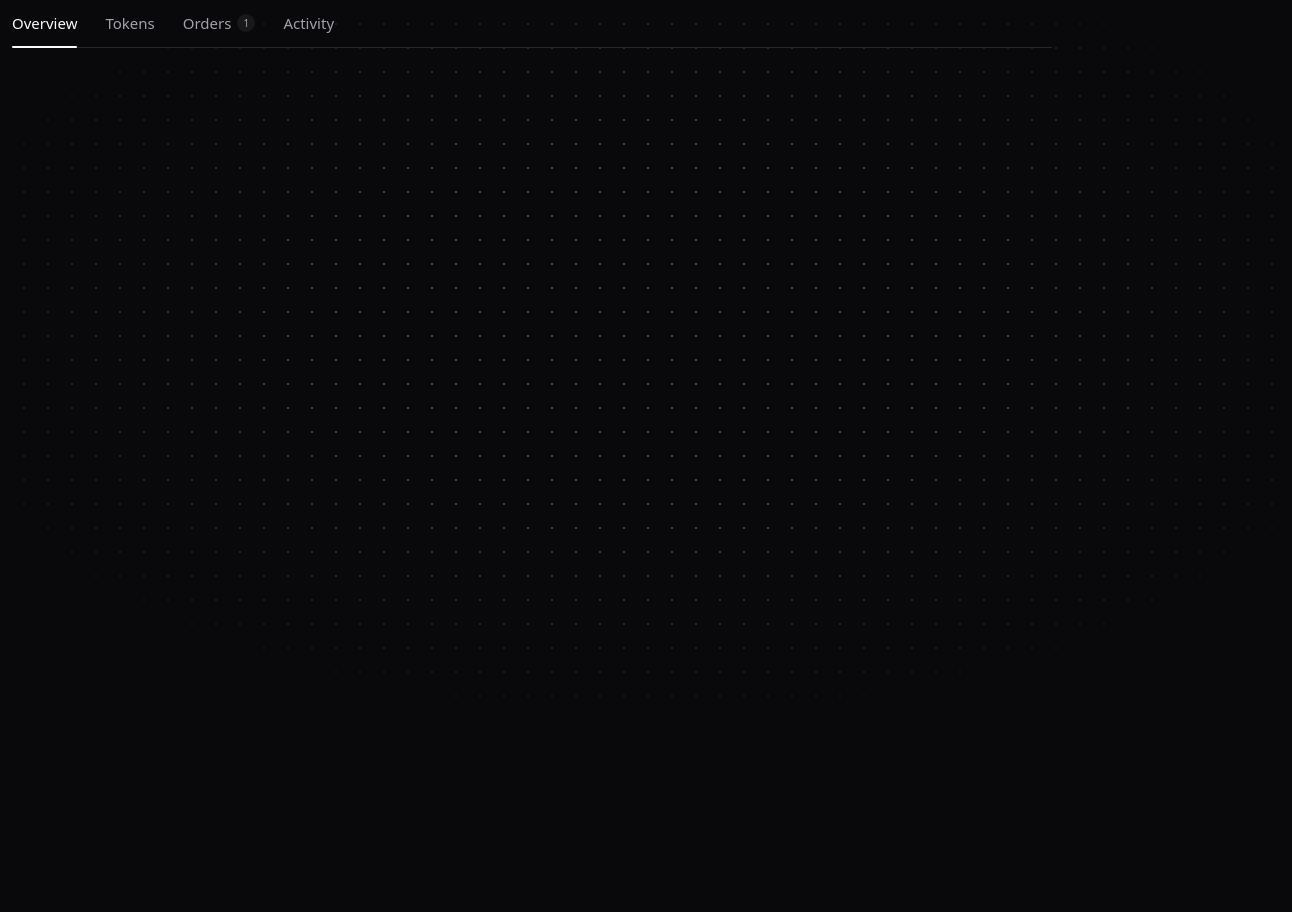
shows a resting order submission in activity
Click the tab "Activity" at point(309, 29), box [283,12,334,46]
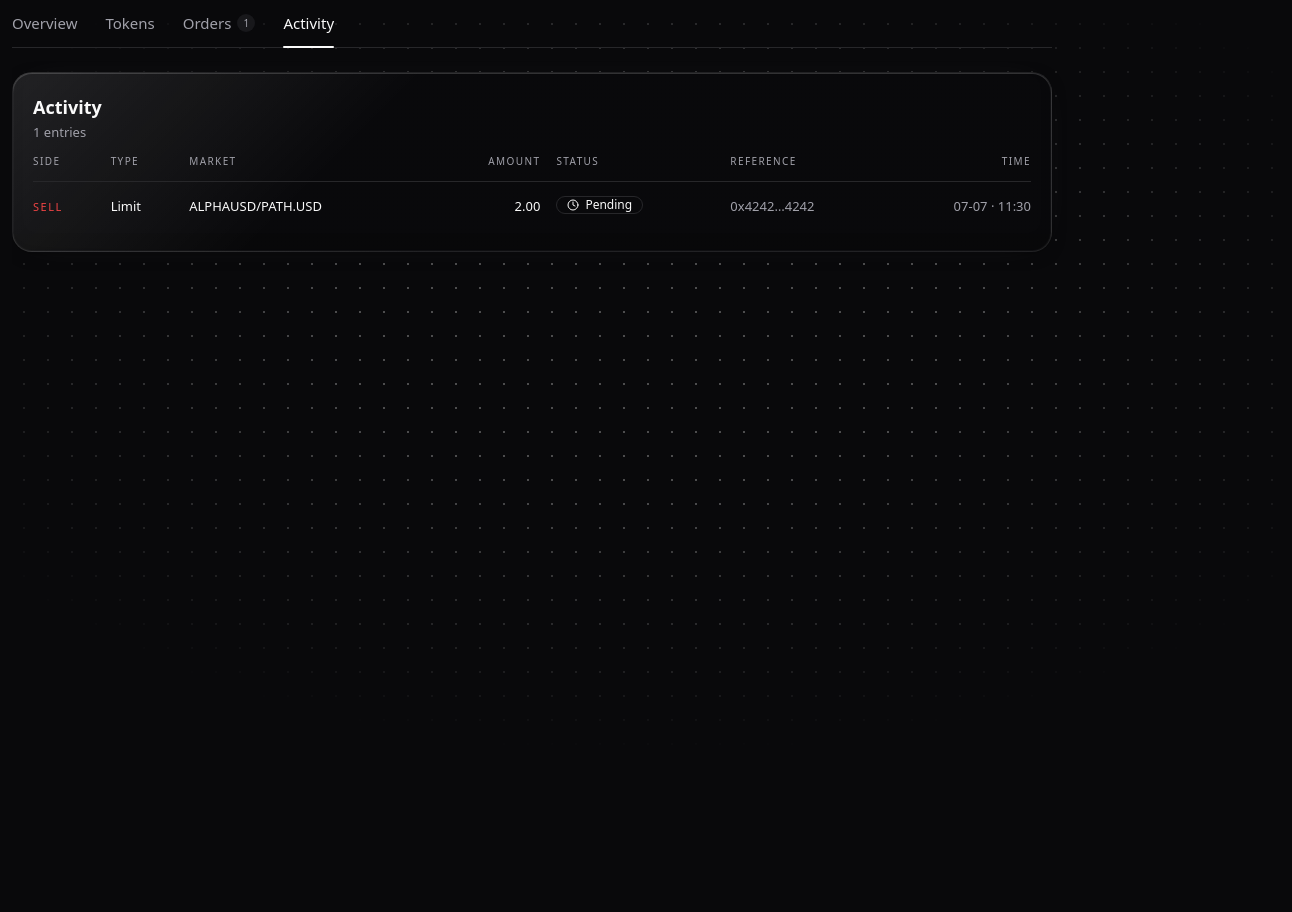
Check: the text "ALPHAUSD/PATH.USD" is shown, box [189,196,322,214]
Check: the text "Sell" is shown, box [33,198,63,214]
Check: the text "Limit" is shown, box [111,182,189,230]
